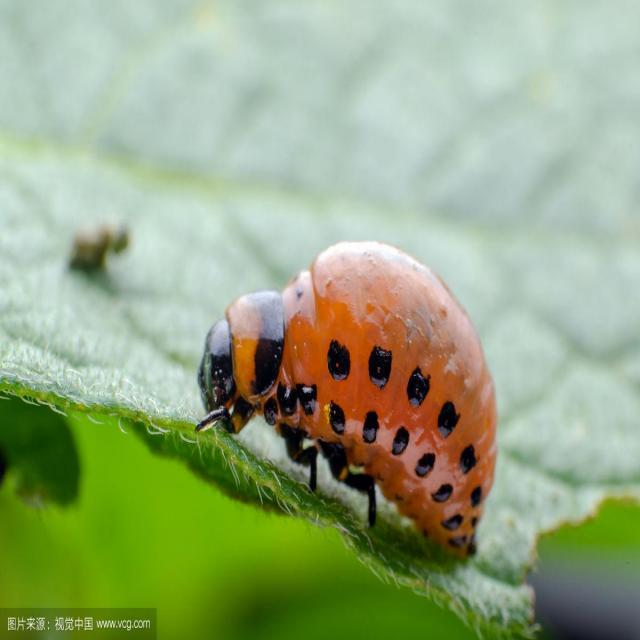ShuCaiHuaBanChong-Larva-: (182, 224, 512, 590)
